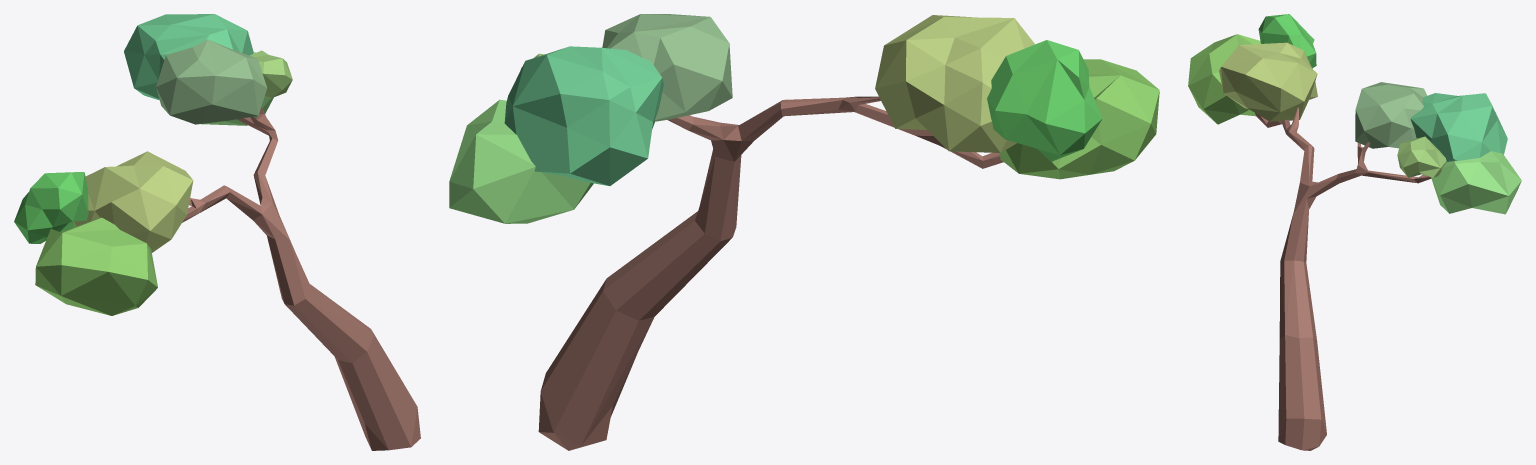
Rendered from LowPolyTree1.fbx.
3 views of the same model, side by side, from view 1: azimuth 30°, elevation 25°; view 2: azimuth 150°, elevation 25°; view 3: azimuth 270°, elevation 25° (orthographic). The views are drawn at different scales.
Visible parts, largest first — view 1: Tree, Icosphere, Icosphere.005, Icosphere.001, Icosphere.004, Icosphere.006, Icosphere.002; view 2: Tree, Icosphere.004, Icosphere.005, Icosphere.006, Icosphere.003, Icosphere.001, Icosphere; view 3: Tree, Icosphere.005, Icosphere.004, Icosphere.003, Icosphere.001, Icosphere, Icosphere.002, Icosphere.006.
Part boxes in pixels (left/top/right/bottom): Tree: left=182, top=106, right=420, bottom=450; Icosphere: left=35, top=217, right=157, bottom=315; Icosphere.005: left=73, top=151, right=193, bottom=252; Icosphere.001: left=156, top=39, right=267, bottom=124; Icosphere.004: left=124, top=14, right=253, bottom=100; Icosphere.006: left=14, top=172, right=88, bottom=243; Icosphere.002: left=249, top=50, right=292, bottom=97; Tree: left=538, top=96, right=1003, bottom=450; Icosphere.004: left=504, top=46, right=663, bottom=185; Icosphere.005: left=875, top=15, right=1034, bottom=152; Icosphere.006: left=987, top=40, right=1102, bottom=161; Icosphere.003: left=449, top=99, right=593, bottom=223; Icosphere.001: left=602, top=14, right=732, bottom=121; Icosphere: left=999, top=59, right=1159, bottom=179; Tree: left=1255, top=107, right=1431, bottom=450; Icosphere.005: left=1219, top=42, right=1317, bottom=121; Icosphere.004: left=1410, top=93, right=1507, bottom=161; Icosphere.003: left=1431, top=151, right=1521, bottom=214; Icosphere.001: left=1355, top=82, right=1427, bottom=148; Icosphere: left=1188, top=34, right=1260, bottom=124; Icosphere.002: left=1397, top=136, right=1446, bottom=177; Icosphere.006: left=1258, top=14, right=1316, bottom=68.
Bounding box in the file's own units: 855 × 759 × 734.
